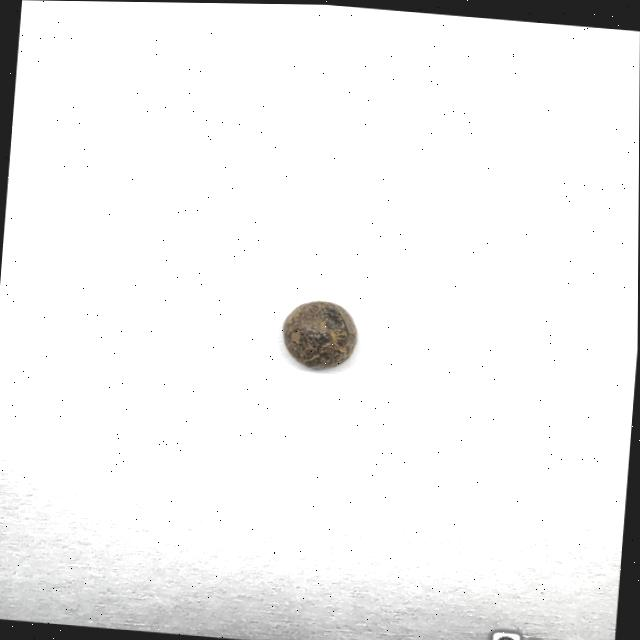Black: (278, 295, 361, 372)
